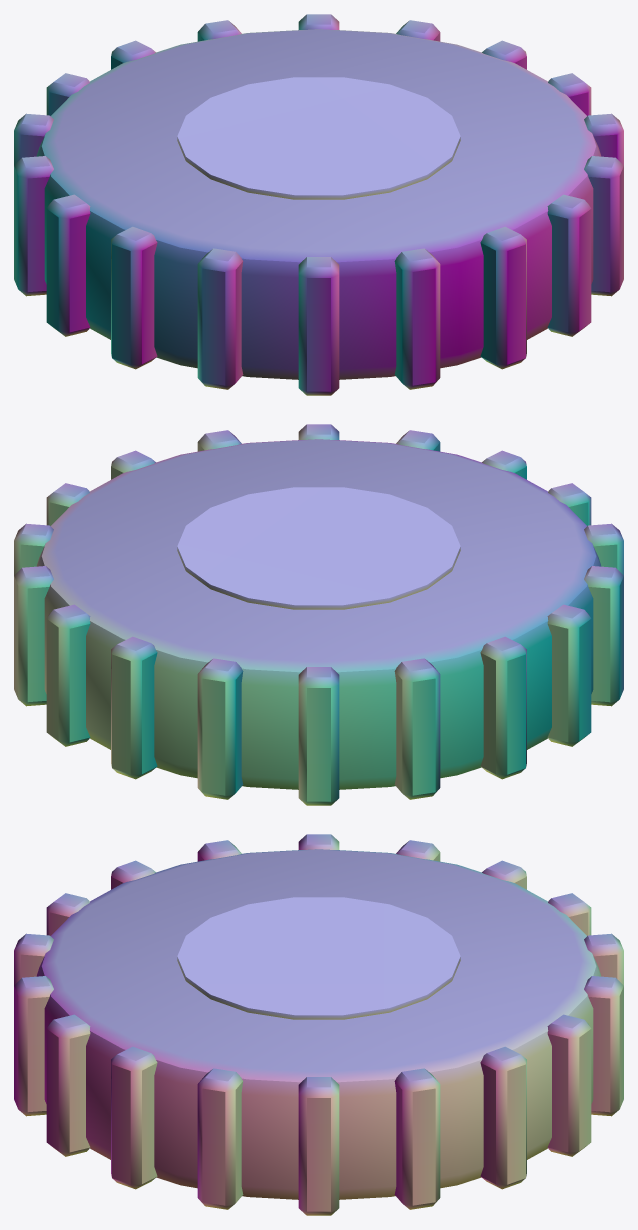
File: env_deco_cap.glb
The picture shows the model from 3 angles, top to bottom: view 1: azimuth 30°, elevation 25°; view 2: azimuth 150°, elevation 25°; view 3: azimuth 270°, elevation 25°; orthographic projection.
Parts seen in each view (by area): view 1: env_deco_cap_mesh; view 2: env_deco_cap_mesh; view 3: env_deco_cap_mesh.
Boxes of the visible parts, x1,y1,x2,y2 form: env_deco_cap_mesh: [14, 14, 623, 395]; env_deco_cap_mesh: [14, 424, 623, 805]; env_deco_cap_mesh: [14, 834, 623, 1215].
Size of the model in its own units: 0.304 by 0.0725 by 0.3015.
